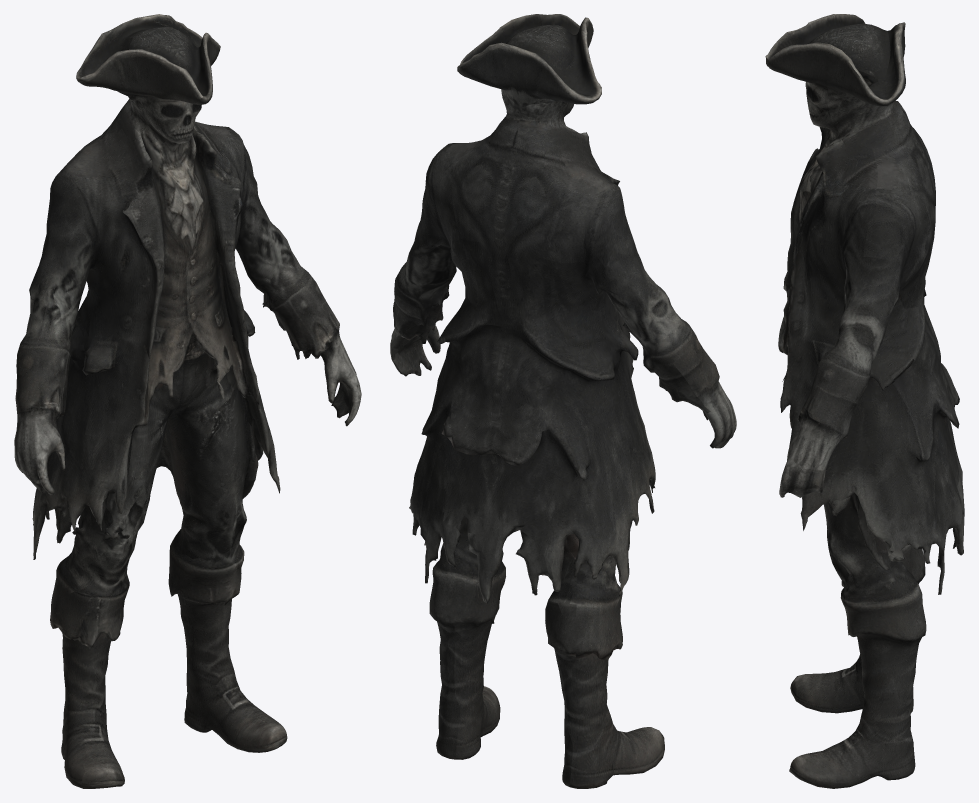
The model's file is undead-ghoul-male.glb.
3 renders of one model, left to right at view 1: azimuth 30°, elevation 25°; view 2: azimuth 150°, elevation 25°; view 3: azimuth 270°, elevation 25°, orthographic.
Parts seen in each view (by area): view 1: geometry_0; view 2: geometry_0; view 3: geometry_0.
Boxes of the visible parts, x1=… form: geometry_0: x1=14, y1=14, x2=361, y2=788; geometry_0: x1=390, y1=14, x2=736, y2=788; geometry_0: x1=765, y1=14, x2=964, y2=788.
Size of the model in its own units: 0.9704 by 2 by 0.5075.
1 material, 1 textured.
